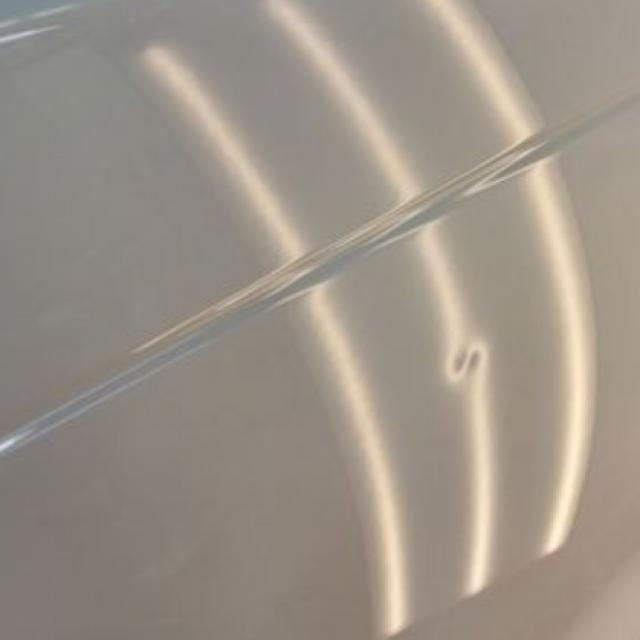dents: (441, 325, 497, 396)
